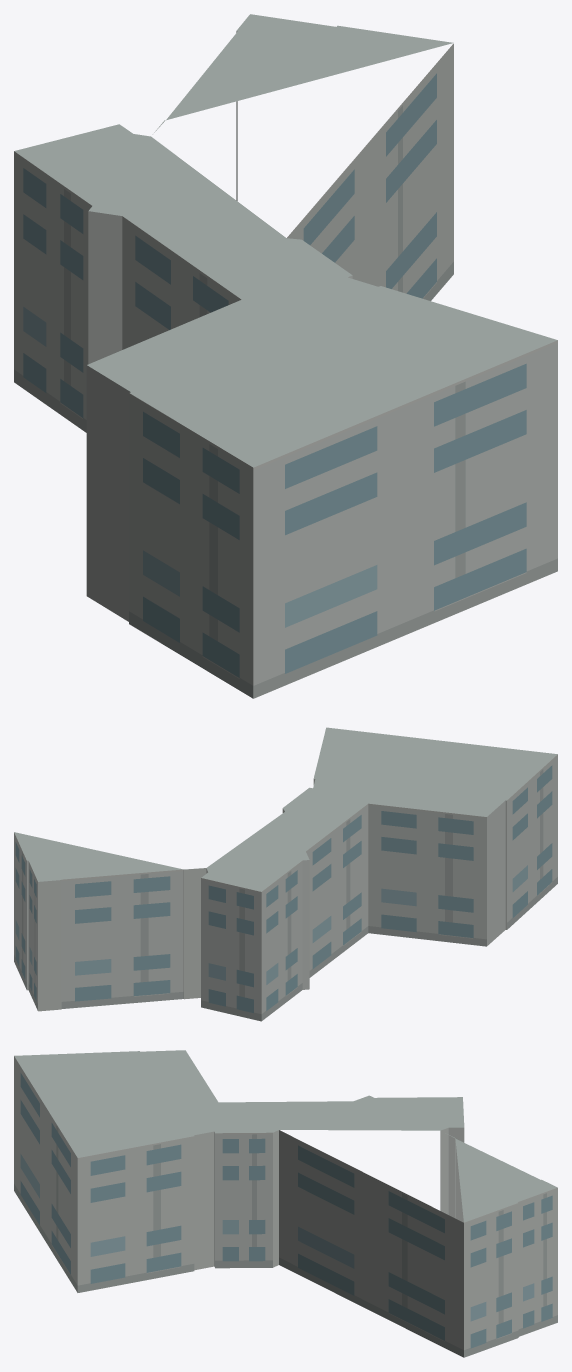
File: survey-upis-32988022.glb
The picture shows the model from 3 angles, top to bottom: view 1: azimuth 30°, elevation 25°; view 2: azimuth 150°, elevation 25°; view 3: azimuth 270°, elevation 25°; orthographic projection. The views are drawn at different scales.
Visible parts, largest first — view 1: survey-upis-32988022.tmp; view 2: survey-upis-32988022.tmp; view 3: survey-upis-32988022.tmp.
Boxes of the visible parts, x1=… form: survey-upis-32988022.tmp: x1=14, y1=14, x2=557, y2=698; survey-upis-32988022.tmp: x1=14, y1=727, x2=557, y2=1021; survey-upis-32988022.tmp: x1=14, y1=1050, x2=557, y2=1357.
Size of the model in its own units: 57.58 by 21 by 76.67.
